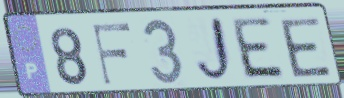3: (141, 16, 187, 90)
8: (49, 26, 91, 87)
E: (231, 16, 289, 82), (277, 16, 335, 80)
F: (91, 21, 134, 88)
J: (193, 15, 236, 87)
